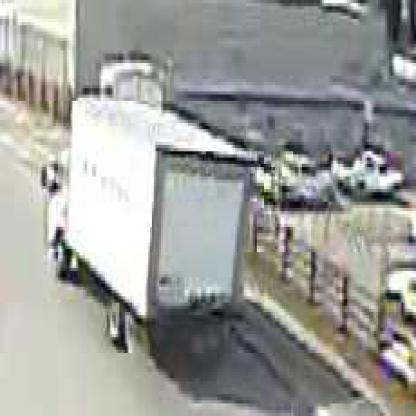truck: (43, 96, 260, 364)
